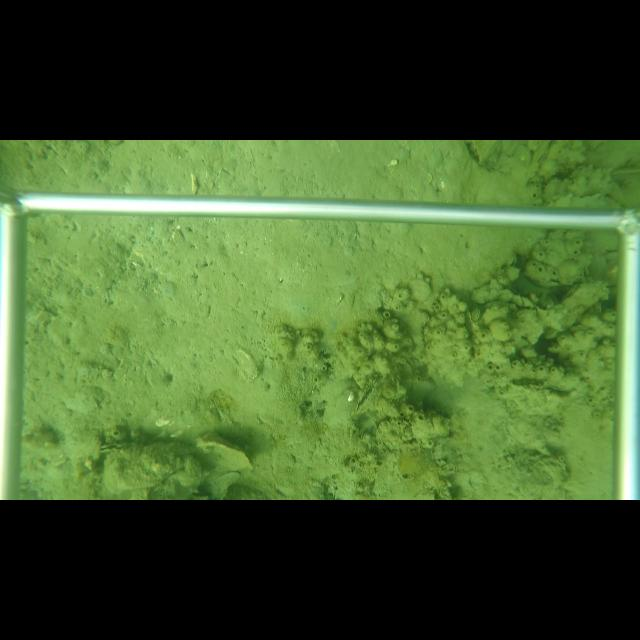Oyster-Closed: (558, 281, 612, 331), (193, 431, 254, 470), (540, 190, 625, 205)
Oyster-Open: (355, 378, 382, 414)
